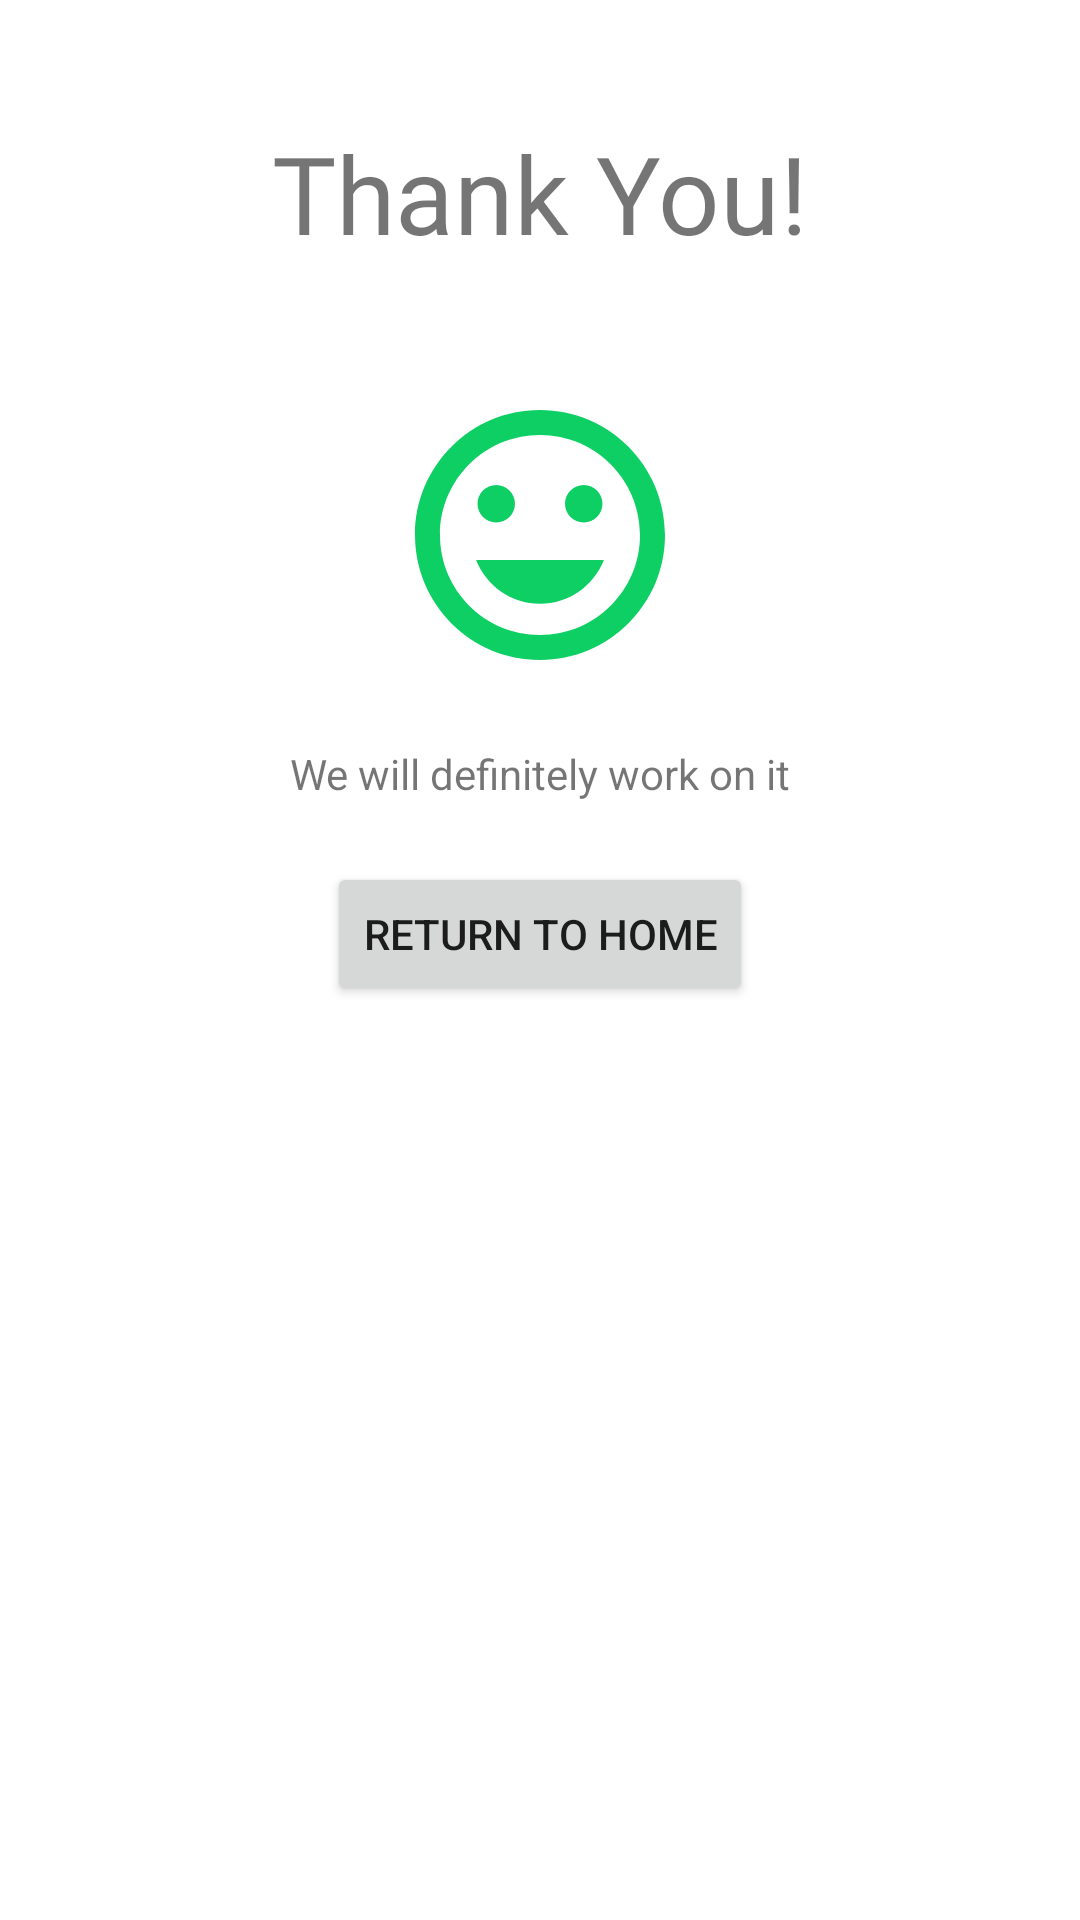

Icon bounding boxes for this 1080px x 1920px phone screenshot, format box(x1, y1, x2, y2):
mood: box(415, 410, 665, 660)
